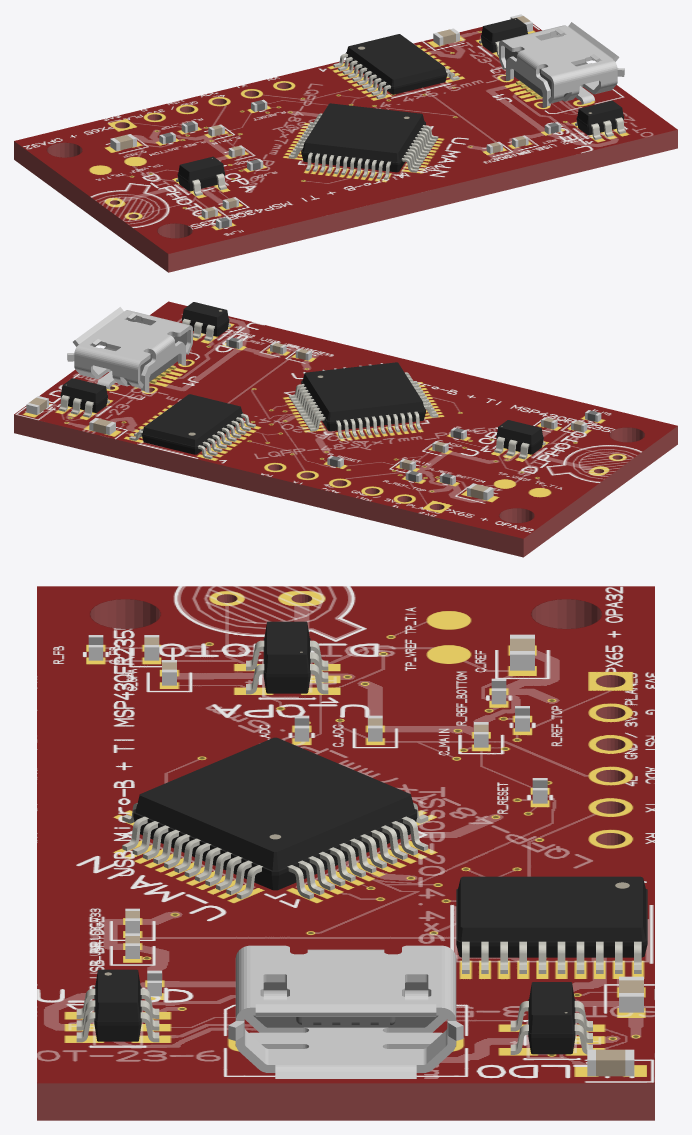
The picture shows the model from 3 angles, top to bottom: view 1: azimuth 30°, elevation 25°; view 2: azimuth 150°, elevation 25°; view 3: azimuth 270°, elevation 25°; orthographic projection. The views are drawn at different scales.
Parts seen in each view (by area): view 1: Box0, U_MAIN, J1, U_USB, U_ESD, U_OPA, U_LDO; view 2: Box0, U_MAIN, J1, U_USB, U_OPA, U_LDO, U_ESD; view 3: Box0, U_MAIN, J1, U_USB, U_ESD, U_OPA, U_LDO, C_LDO_IN, C_LDO_OUT, C_REF.
Boxes of the visible parts, <box> form: Box0: <box>14,24,677,272</box>; U_MAIN: <box>288,103,438,179</box>; J1: <box>499,22,624,107</box>; U_USB: <box>333,34,459,98</box>; U_ESD: <box>575,100,625,139</box>; U_OPA: <box>176,156,226,196</box>; U_LDO: <box>479,18,527,56</box>; Box0: <box>14,301,677,557</box>; U_MAIN: <box>288,362,438,438</box>; J1: <box>67,307,192,392</box>; U_USB: <box>129,394,255,459</box>; U_OPA: <box>494,420,545,459</box>; U_LDO: <box>58,378,109,417</box>; U_ESD: <box>182,302,230,341</box>; Box0: <box>37,586,654,1120</box>; U_MAIN: <box>122,737,428,899</box>; J1: <box>228,945,463,1078</box>; U_USB: <box>456,876,647,973</box>; U_ESD: <box>76,969,159,1042</box>; U_OPA: <box>246,621,328,694</box>; U_LDO: <box>510,982,592,1054</box>; C_LDO_IN: <box>587,1049,634,1076</box>; C_LDO_OUT: <box>619,976,643,1012</box>; C_REF: <box>510,634,534,670</box>.
Bounding box in the file's own units: 40 × 4.13 × 21.
Materials: 13 (2 with a texture image).
